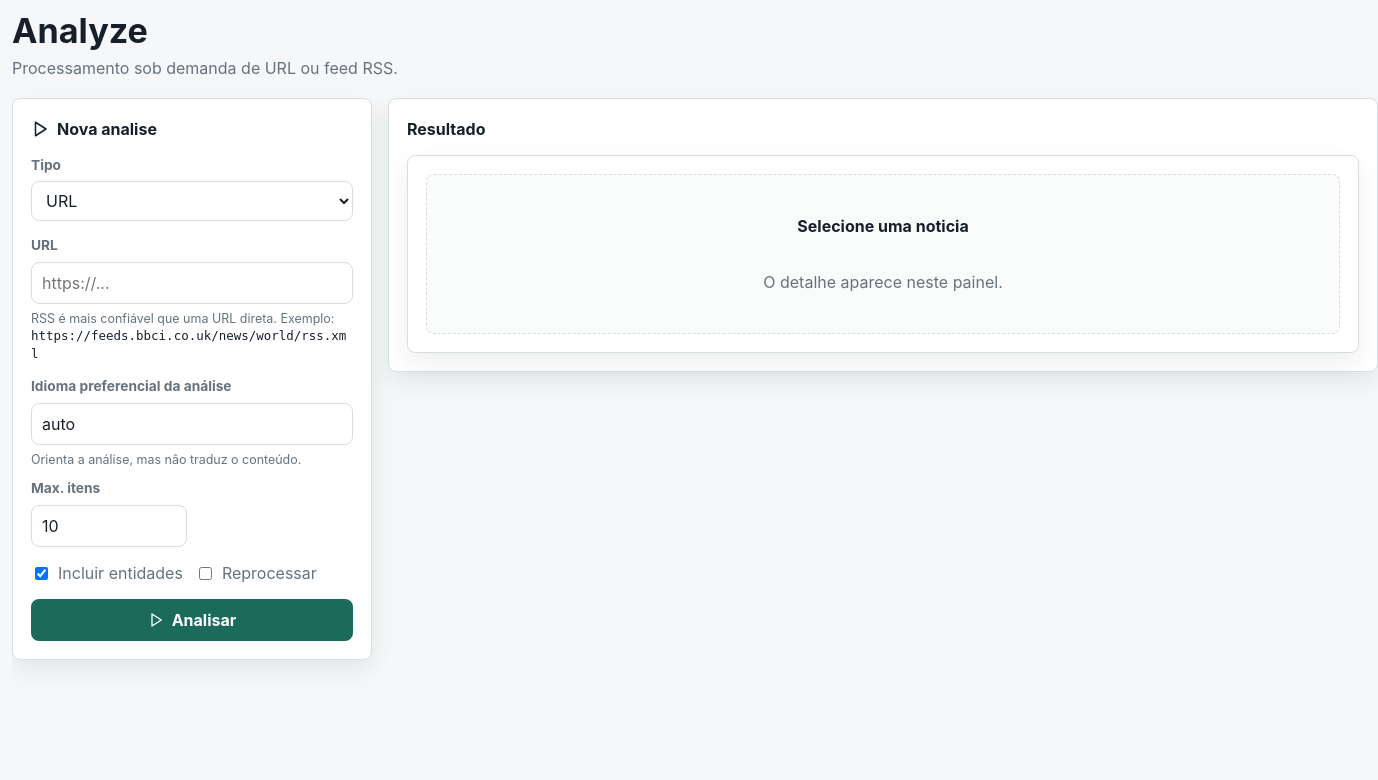
Test: Analyze › submits feed analysis payloads and renders the result
The image size is (1378, 780).
Step 1. Select "Feed RSS" in the dropdown labelled "Tipo" → [192, 201], box left=31, top=181, right=353, bottom=221
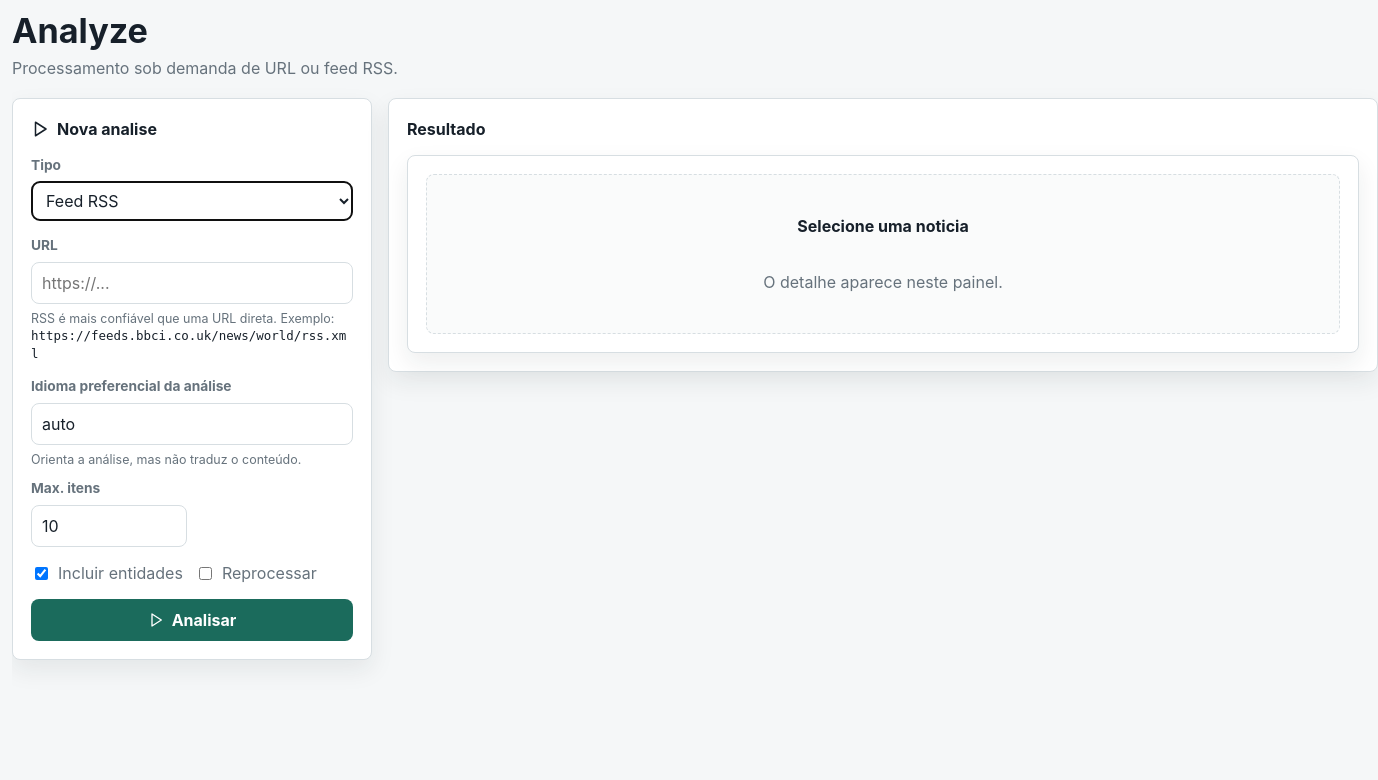
Step 2. Type "https://feeds.example.com/global.xml" into the field labelled "URL" → [192, 283], box left=31, top=262, right=353, bottom=304
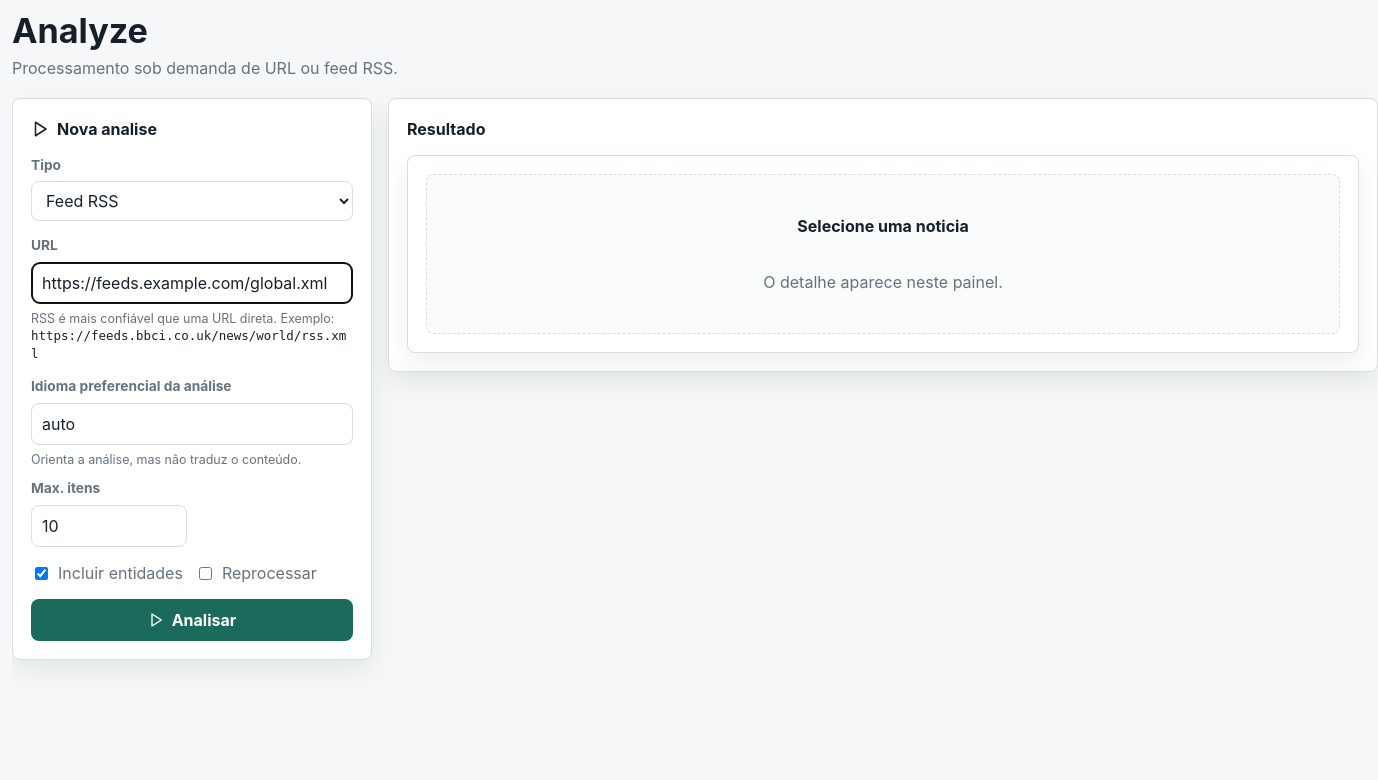
Step 3. Replace the text in the number field labelled "Max. itens" with "2" → [109, 526], box left=31, top=505, right=187, bottom=547
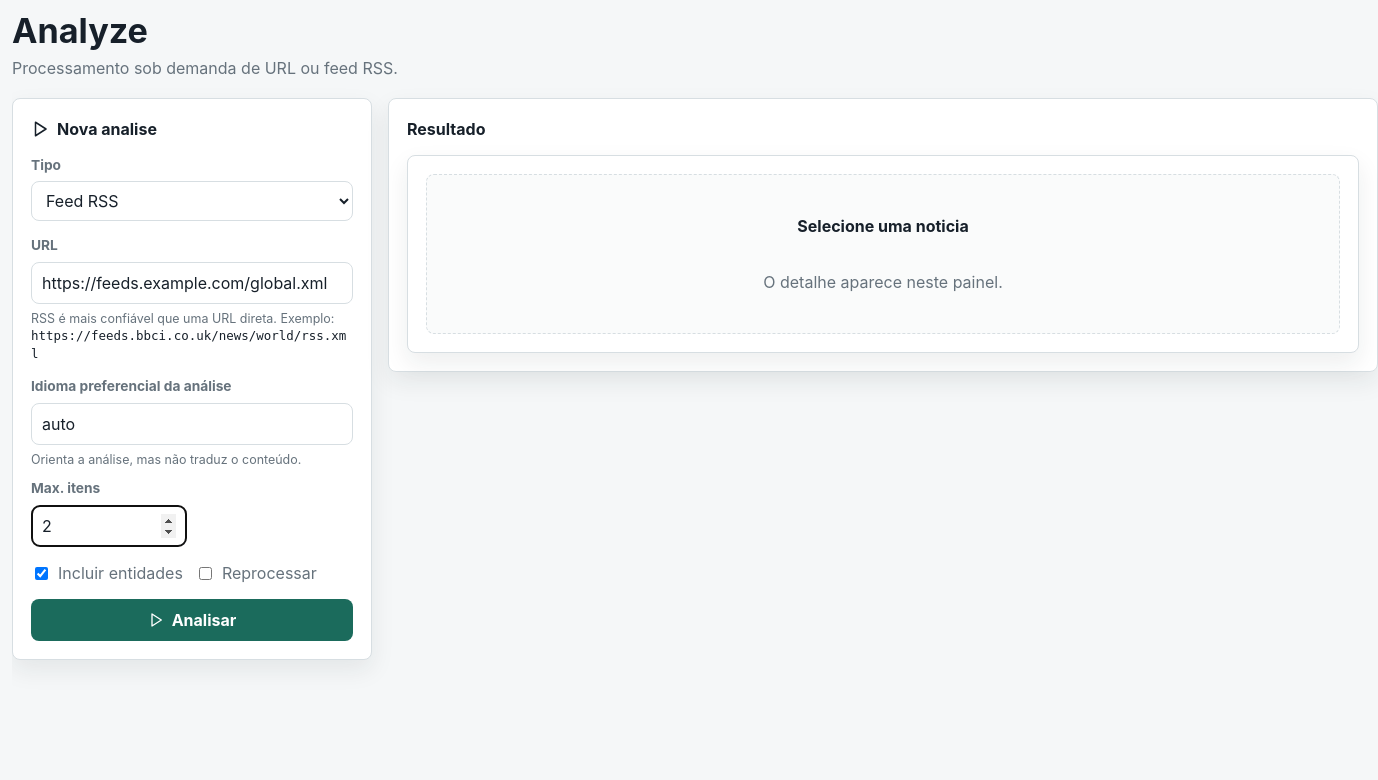
Step 4. Click the button "Analisar" → [192, 620], box left=31, top=599, right=353, bottom=641
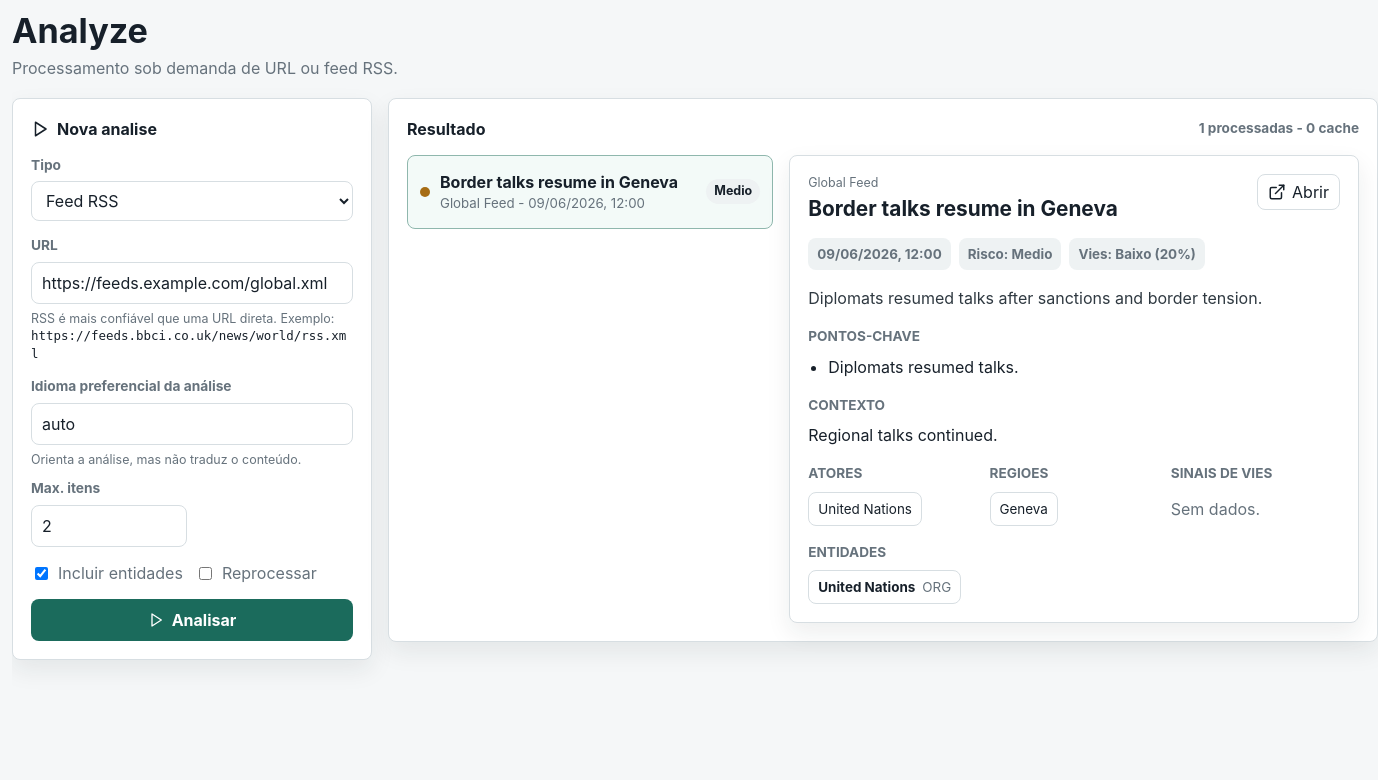
Expected: the text "1 processadas - 0 cache" is shown, left=1199, top=118, right=1359, bottom=139
